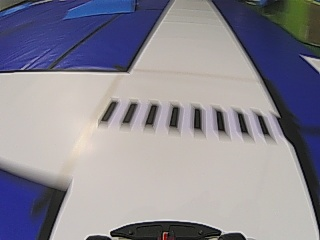CrossWalk: (98, 101, 272, 137)
